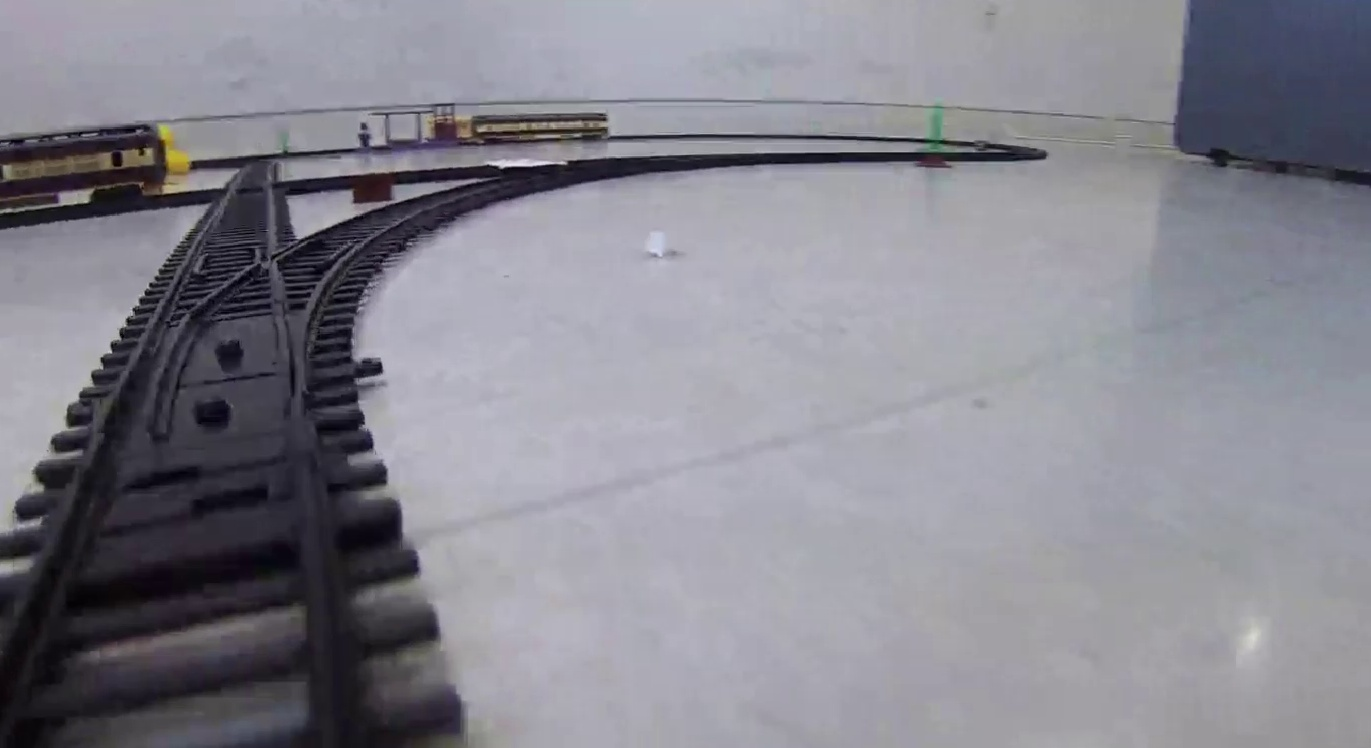box: (350, 173, 394, 204)
